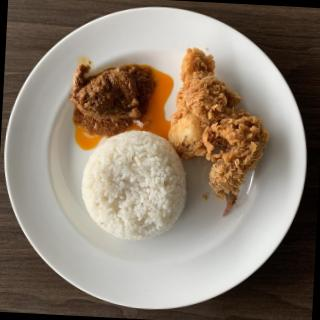Nasi: (81, 129, 193, 245)
